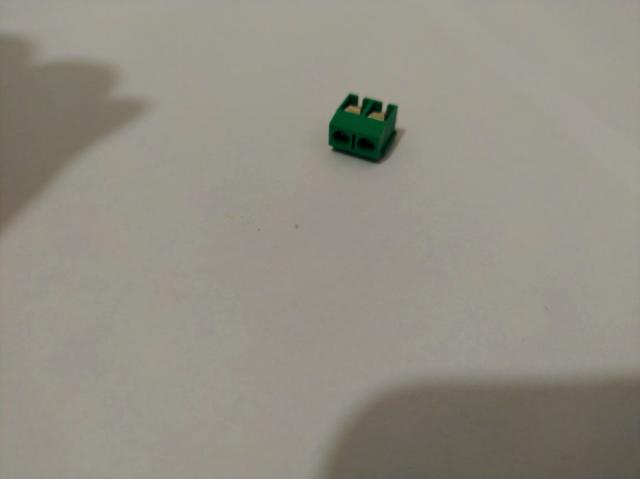terminal_block: (328, 92, 398, 160)
